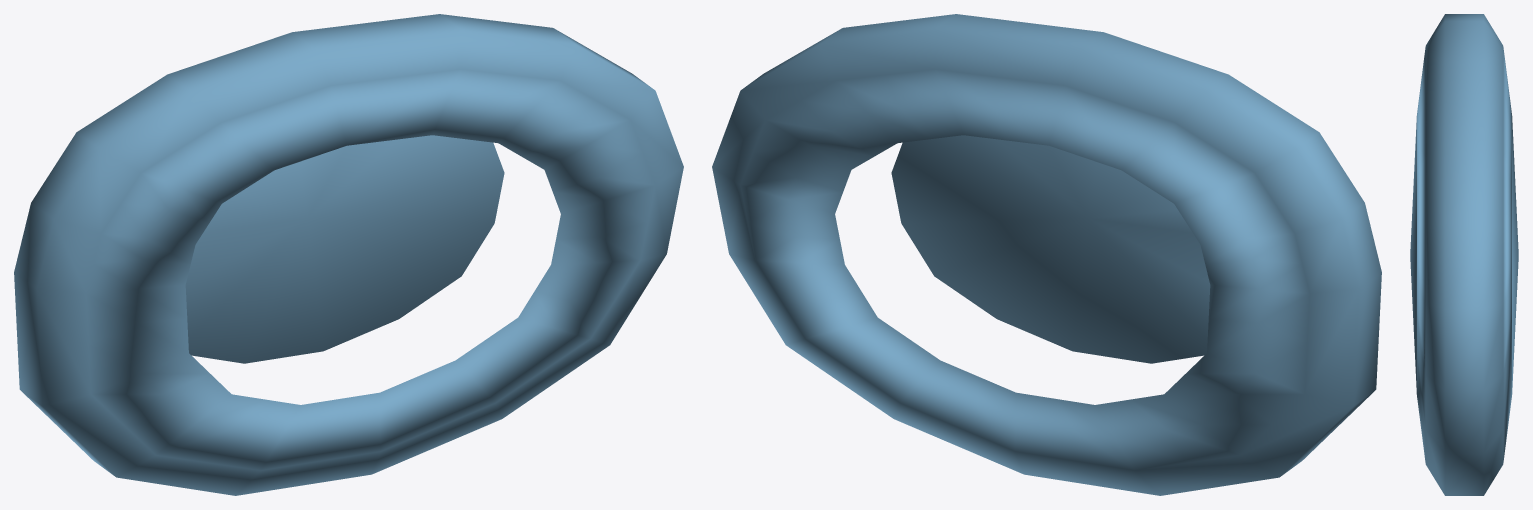
File: sidecover_hd.glb
3 views of the same model, side by side, from view 1: azimuth 30°, elevation 25°; view 2: azimuth 150°, elevation 25°; view 3: azimuth 270°, elevation 25° (orthographic). The views are drawn at different scales.
Visible parts, largest first — view 1: S51_HD_sidecover; view 2: S51_HD_sidecover; view 3: S51_HD_sidecover.
Part boxes in pixels (left/top/right/bottom): S51_HD_sidecover: left=14, top=14, right=683, bottom=495; S51_HD_sidecover: left=712, top=14, right=1381, bottom=495; S51_HD_sidecover: left=1410, top=14, right=1518, bottom=495.
Size of the model in its own units: 1.14 by 0.74 by 0.196.
